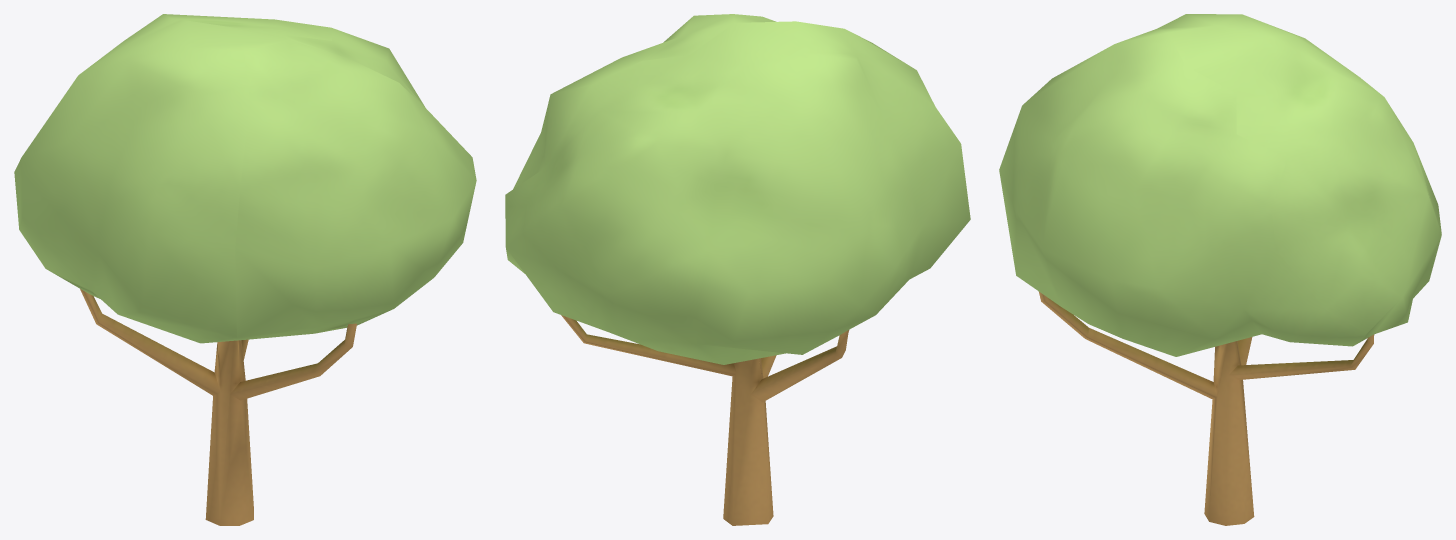
3 renders of one model, left to right at view 1: azimuth 30°, elevation 25°; view 2: azimuth 150°, elevation 25°; view 3: azimuth 270°, elevation 25°, orthographic. The views are drawn at different scales.
Parts seen in each view (by area): view 1: Big tree.001; view 2: Big tree.001; view 3: Big tree.001.
Part boxes in pixels (<box>): Big tree.001: <box>14,14,476,525</box>; Big tree.001: <box>505,14,970,525</box>; Big tree.001: <box>999,14,1441,525</box>.
Bounding box in the file's own units: 16.17 × 19.71 × 16.67.
1 material, 1 textured.
